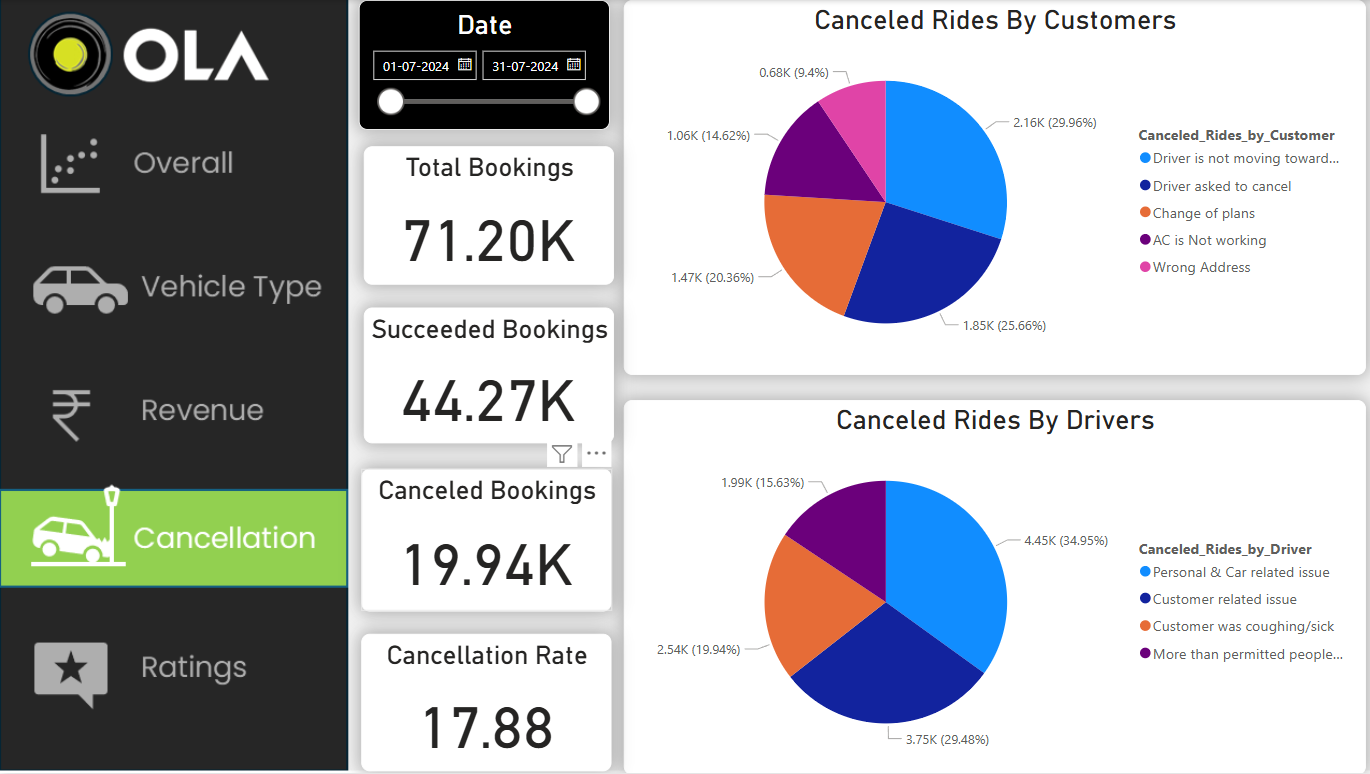

This screenshot's page, from the dashboard's own definition file:
{"tool":"powerbi","page":{"name":"cancelation","canvas":[1280,720],"ordinal":3},"visuals":[{"type":"actionButton","box":[0,222,324.5,92.9],"z":0},{"type":"actionButton","box":[0,335.4,324.5,92.9],"z":1000},{"type":"actionButton","box":[0,454.8,324.5,92.9],"z":2000},{"type":"actionButton","box":[0,575.5,324.5,92.9],"z":3000},{"type":"actionButton","box":[0,108.4,325.2,91.9],"z":4000},{"type":"pieChart","title":"Canceled Rides By Customers","fields":{"Category":["July.Canceled_Rides_by_Customer"],"Y":["CountNonNull(July.Canceled_Rides_by_Customer)"]},"box":[580.3,0,690.1,348.7],"z":5000},{"type":"pieChart","title":"Canceled Rides By Drivers","fields":{"Category":["July.Canceled_Rides_by_Driver"],"Y":["CountNonNull(July.Canceled_Rides_by_Driver)"]},"box":[580.4,371.9,690.2,348.5],"z":6000},{"type":"slicer","title":"Date","fields":{"Values":["July.Date"]},"box":[333.4,0,233.3,120.8],"z":7000},{"type":"card","title":"Total Bookings","fields":{"Values":["CountNonNull(July.Booking_ID)"]},"box":[337.8,136.3,232.8,129.1],"z":8000},{"type":"card","title":"Succeeded Bookings","fields":{"Values":["CountNonNull(July.Booking_ID)"]},"box":[337.8,285.9,232.8,126.7],"z":9000},{"type":"card","title":"Canceled Bookings","fields":{"Values":["CountNonNull(July.Booking_ID)"]},"box":[336.6,435.5,232.8,132.7],"z":10000},{"type":"card","title":"Cancellation Rate","fields":{"Values":["July.canceledpercentage"]},"box":[336.6,589.9,232.8,127.9],"z":11000}]}

Visuals, with their boxes in screenshot pixels (x1, y1, x2, y2), scaled from the page's 1280x720 canvas onto the 1370x774 screenshot:
actionButton: {"left": 0, "top": 239, "right": 347, "bottom": 339}
actionButton: {"left": 0, "top": 361, "right": 347, "bottom": 460}
actionButton: {"left": 0, "top": 489, "right": 347, "bottom": 589}
actionButton: {"left": 0, "top": 619, "right": 347, "bottom": 719}
actionButton: {"left": 0, "top": 117, "right": 348, "bottom": 215}
"Canceled Rides By Customers" pieChart: {"left": 621, "top": 0, "right": 1360, "bottom": 375}
"Canceled Rides By Drivers" pieChart: {"left": 621, "top": 400, "right": 1360, "bottom": 773}
"Date" slicer: {"left": 357, "top": 0, "right": 607, "bottom": 130}
"Total Bookings" card: {"left": 362, "top": 147, "right": 611, "bottom": 285}
"Succeeded Bookings" card: {"left": 362, "top": 307, "right": 611, "bottom": 444}
"Canceled Bookings" card: {"left": 360, "top": 468, "right": 609, "bottom": 611}
"Cancellation Rate" card: {"left": 360, "top": 634, "right": 609, "bottom": 772}
